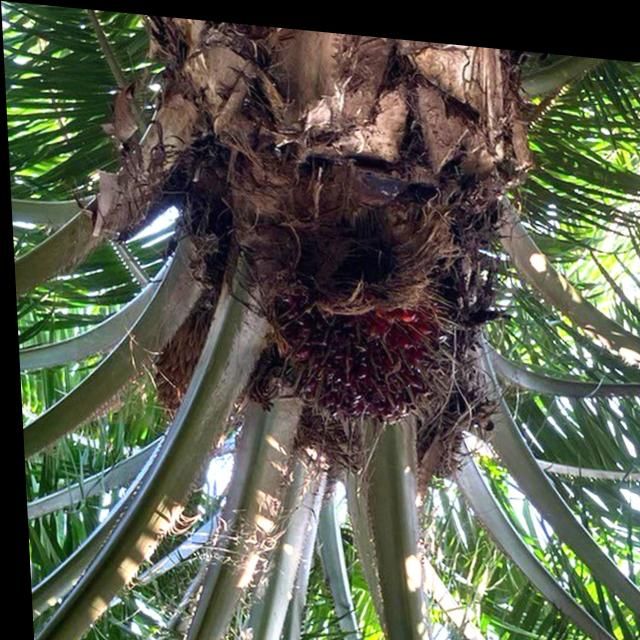ripe: (265, 263, 452, 431)
